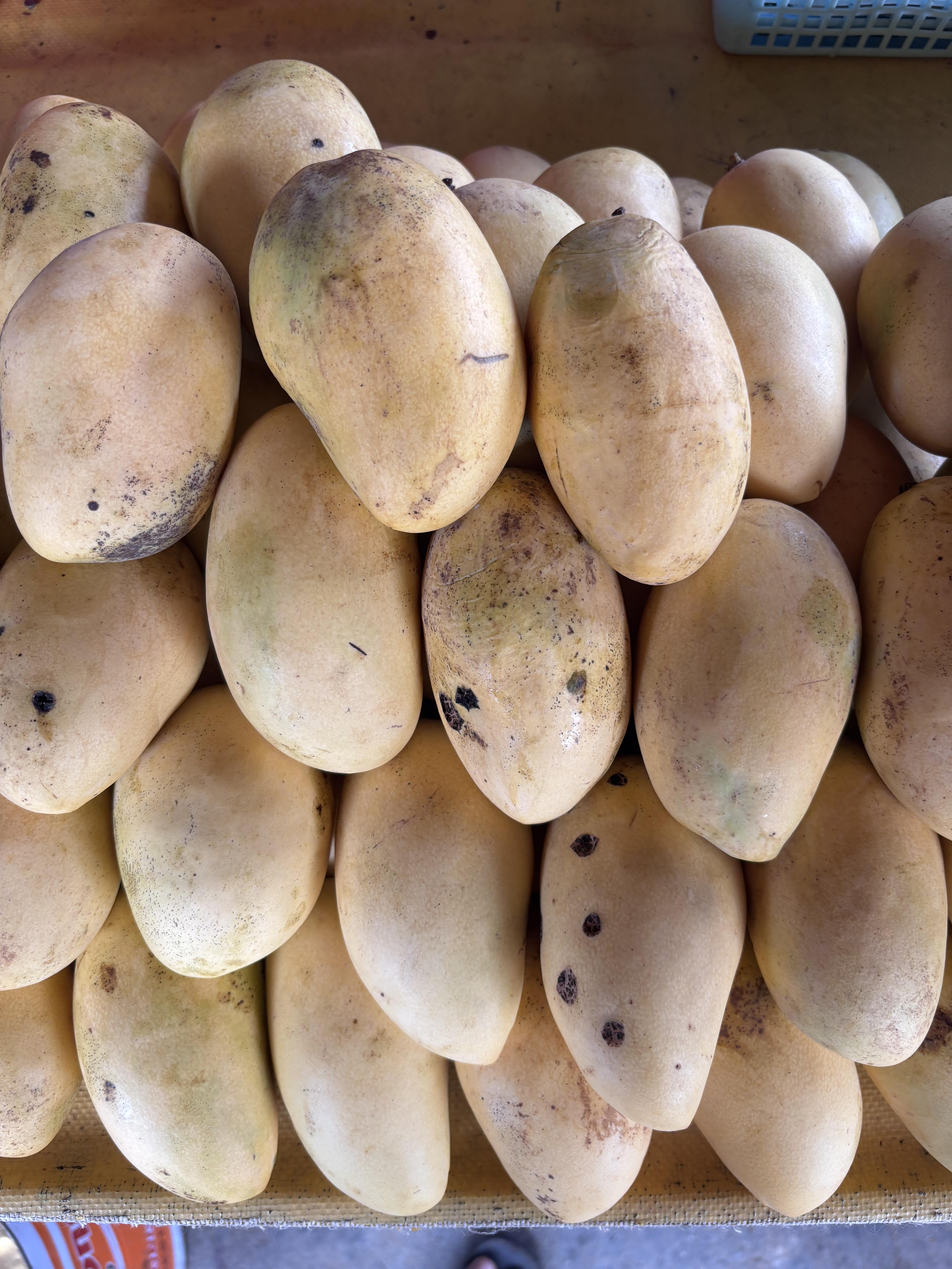mango: (250, 150, 526, 532), (526, 213, 750, 585), (0, 223, 241, 563)
occluded: (634, 499, 860, 862), (205, 405, 423, 773), (540, 756, 746, 1130), (422, 469, 631, 824), (335, 720, 533, 1063), (744, 739, 947, 1066), (114, 686, 332, 978), (74, 892, 278, 1204), (266, 878, 450, 1216), (456, 919, 651, 1222), (0, 541, 208, 815), (180, 59, 380, 329), (695, 935, 862, 1217), (682, 226, 847, 504), (0, 95, 187, 326), (702, 148, 879, 390), (854, 476, 952, 837), (857, 197, 952, 457), (0, 790, 120, 990), (798, 414, 915, 590), (456, 178, 584, 334), (0, 966, 82, 1157), (535, 147, 681, 239), (807, 150, 903, 238), (385, 145, 474, 191), (462, 145, 550, 184), (670, 177, 712, 237)
